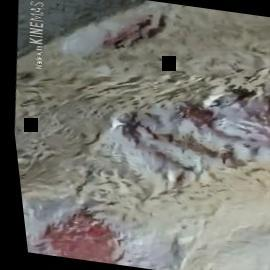skin_lesions: (25, 201, 124, 265)
